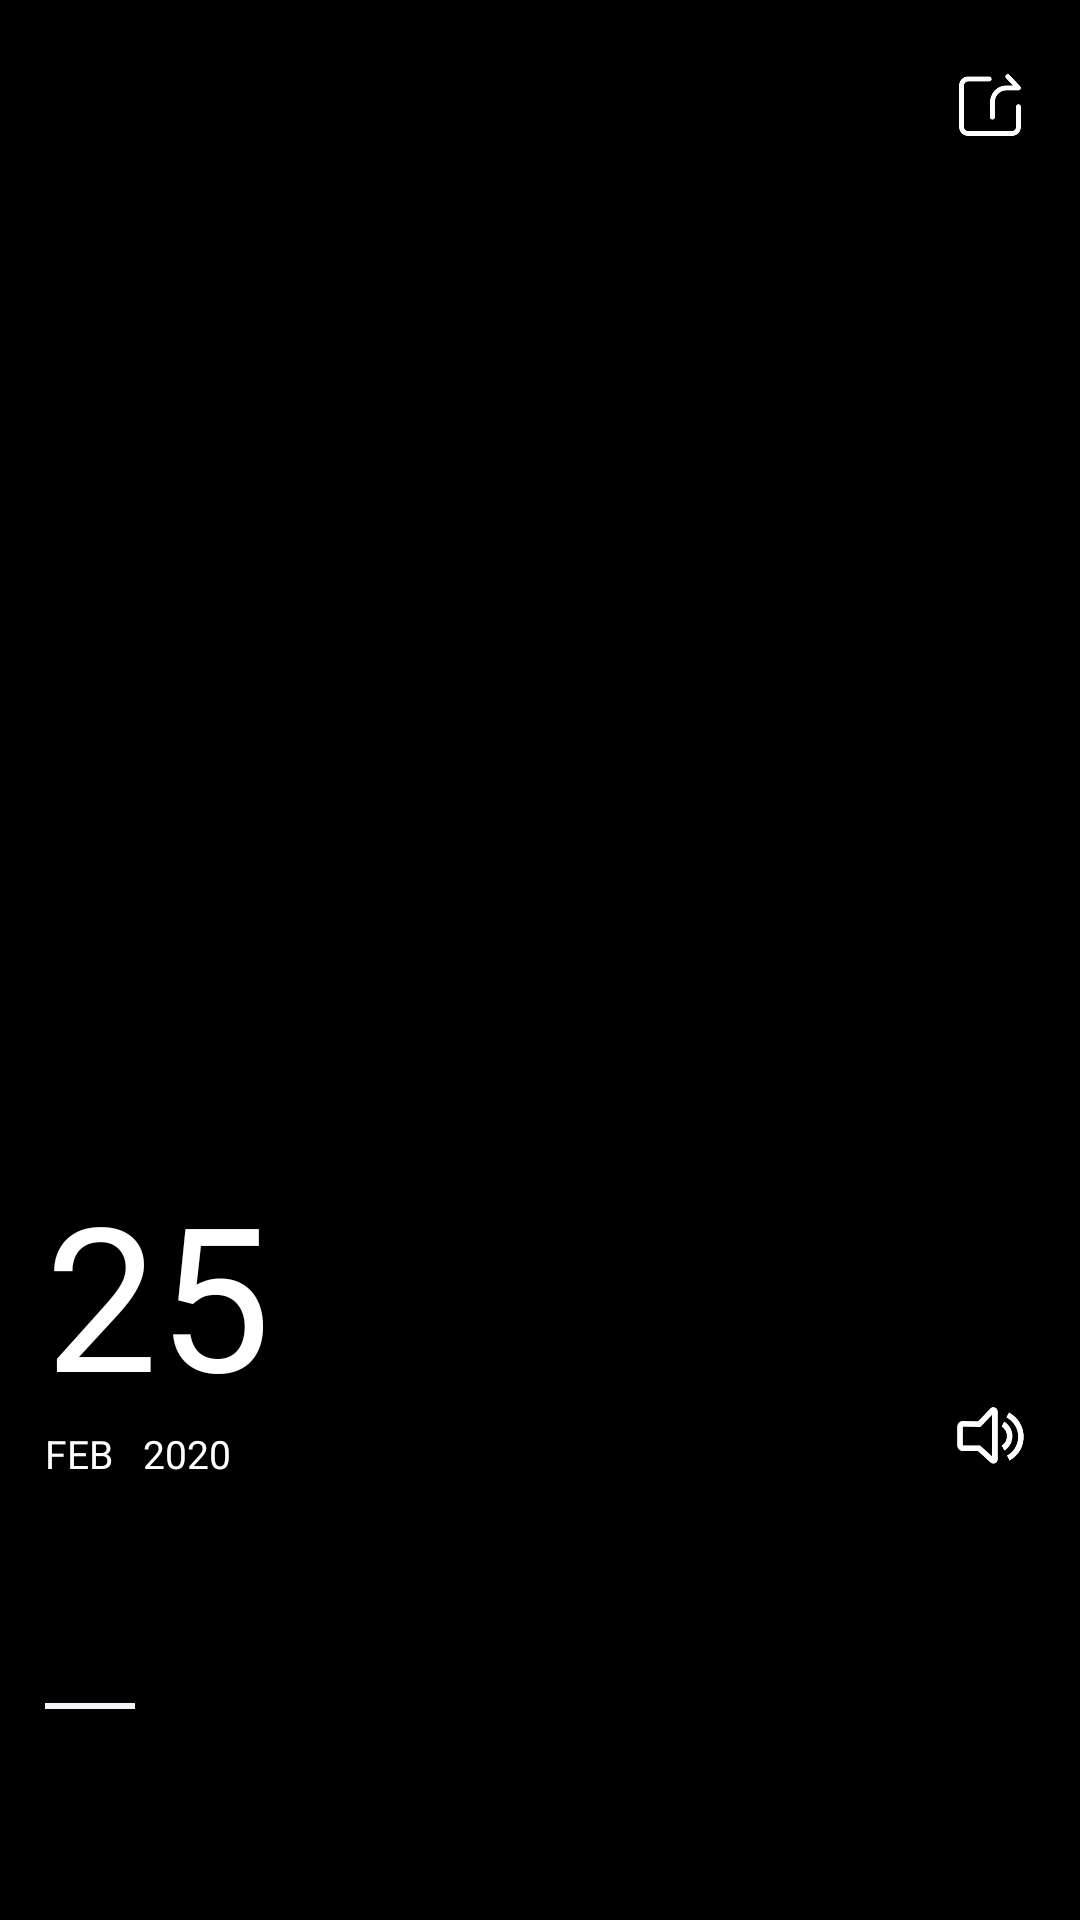

Screen size 1080*1920. Icon name, then its box in pixels as (x1, y1, x2, y2):
share: (959, 74, 1021, 136)
sound: (957, 1407, 1024, 1464)
